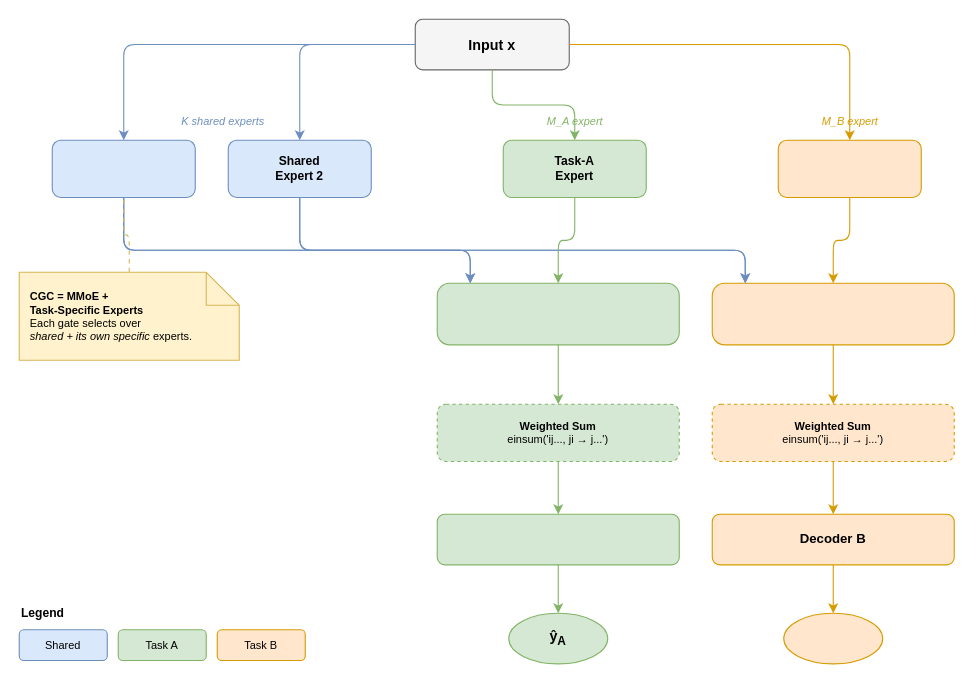
Some shapes in this 974 by 683 pixel diagram are drawn without their labels. The centre of each missing label's shape, as x and y in pixels:
Decoder A: (x=557, y=539)
Gate A Linear(K+M A ) → Softmax: (x=557, y=313)
Gate B Linear(K+M B ) → Softmax: (x=832, y=313)
Shared Expert 1: (x=123, y=168)
Task-B Expert: (x=849, y=168)
ŷ B: (x=833, y=638)
